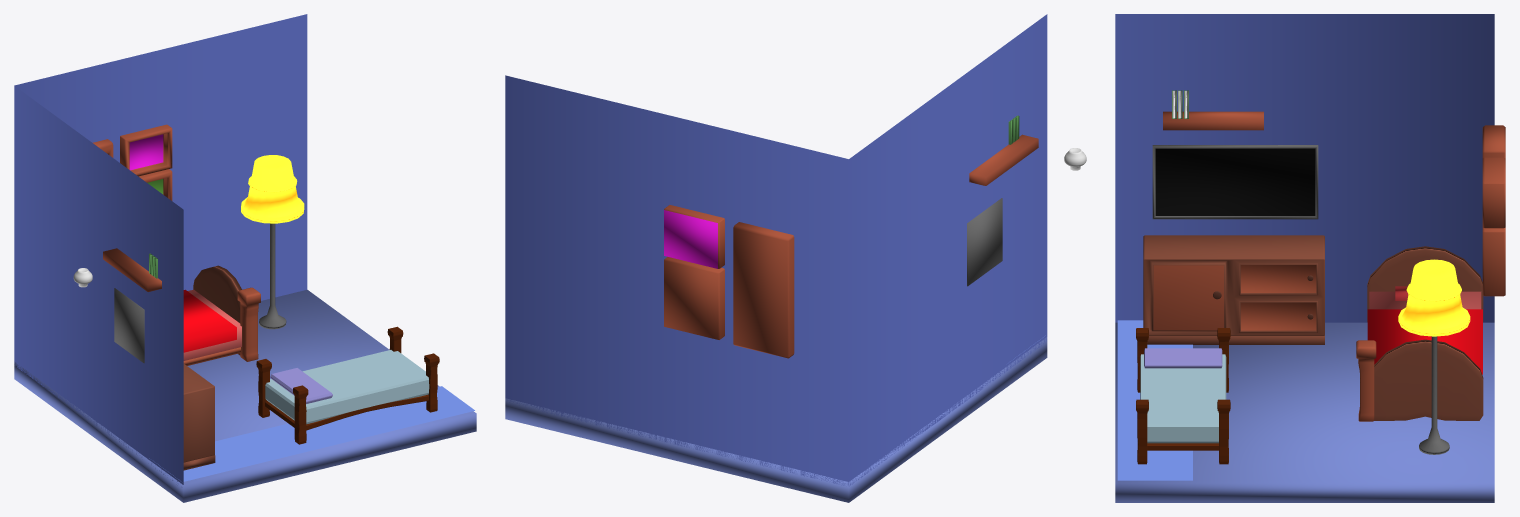
Rendered from Room.glb.
3 views of the same model, side by side, from view 1: azimuth 30°, elevation 25°; view 2: azimuth 150°, elevation 25°; view 3: azimuth 270°, elevation 25° (orthographic). The views are drawn at different scales.
Visible parts, largest first — view 1: Cube, Plane, Plane.012, Plane.001, Cylinder.004, Plane.009, Cube.002, Plane.007, Plane.010, Plane.003, Plane.004, Plane.002 (+2 smaller); view 2: Cube, Plane, Cube.001, Cube.003, Cube.002, Plane.010, Plane.002; view 3: Cube, Plane, Plane.009, Plane.010, Plane.012, Plane.003, Cylinder.004, Plane.001, Plane.007, Plane.002, Cube.002, Cube.003 (+3 smaller).
Part boxes in pixels (x1,y1,x2,y2): Cube: (14,14,307,484); Plane: (14,289,476,502); Plane.012: (256,326,439,444); Plane.001: (149,386,474,481); Cylinder.004: (241,155,304,329); Plane.009: (183,364,215,470); Cube.002: (120,124,172,176); Plane.007: (183,289,236,352); Plane.010: (114,288,144,363); Plane.003: (193,265,241,355); Plane.004: (237,287,260,361); Plane.002: (103,248,161,291); Cube: (505,14,1047,486); Plane: (505,337,1047,502); Cube.001: (733,222,794,358); Cube.003: (664,257,724,339); Cube.002: (664,205,724,268); Plane.010: (967,198,1002,286); Plane.002: (969,134,1038,185); Cube: (1115,14,1494,322); Plane: (1115,322,1494,502); Plane.009: (1143,235,1324,344); Plane.010: (1152,145,1318,219); Plane.012: (1136,328,1230,464); Plane.003: (1367,246,1483,420); Cylinder.004: (1398,259,1470,454); Plane.001: (1117,320,1192,480); Plane.007: (1367,309,1482,374); Plane.002: (1163,111,1263,130); Cube.002: (1482,157,1505,228); Cube.003: (1482,227,1505,296).
Size of what is drawn, in the model's own units: 9.92 by 7.65 by 8.24.
